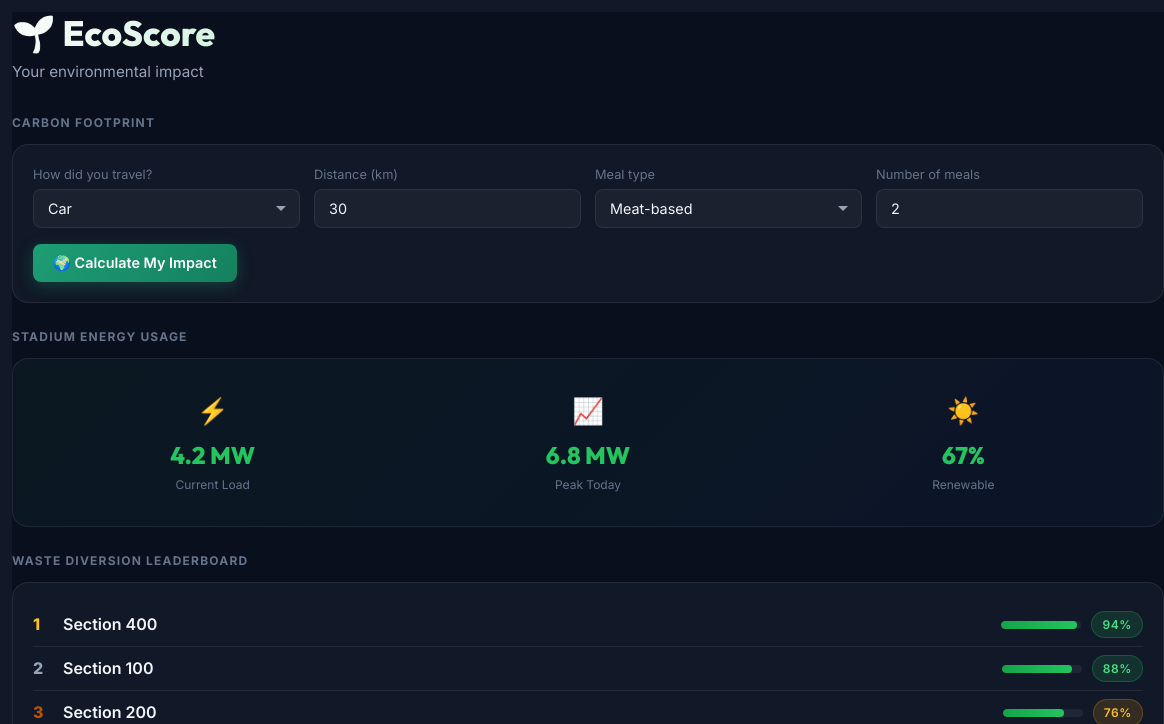
EcoScore › shows carbon result after calculation
This screenshot has width=1164, height=724.
Click the button "🌍 Calculate My Impact" at (135, 263), box [33,244,237,282]
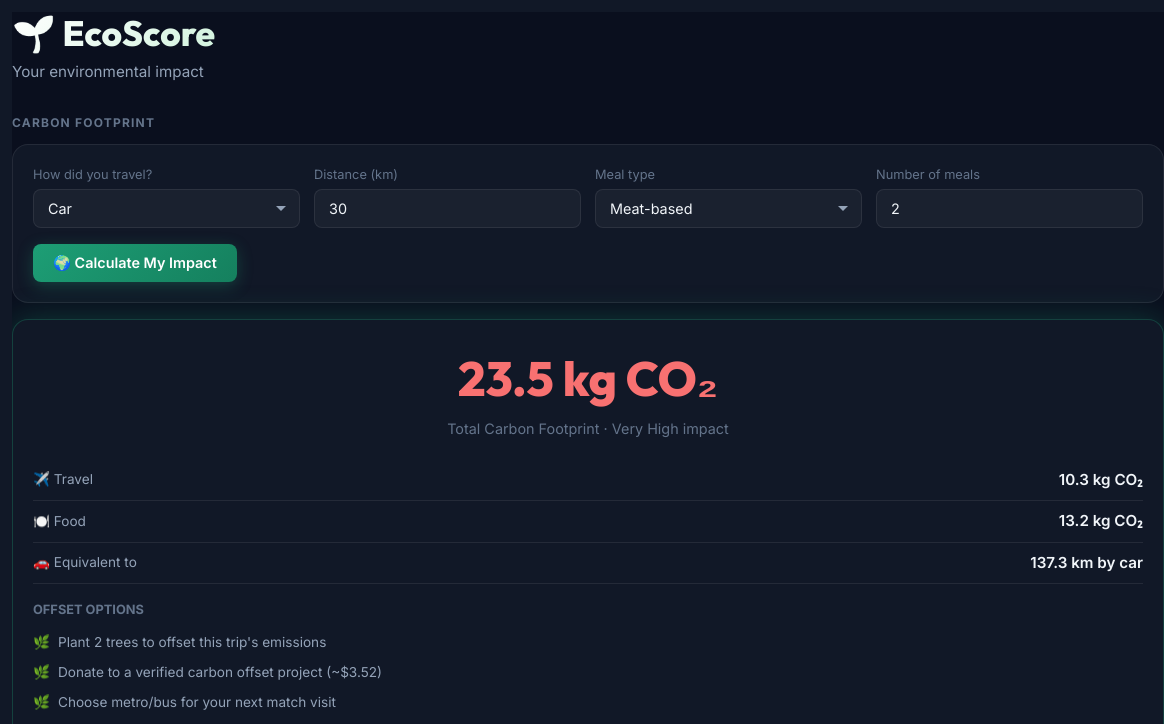
Expected: the text "23.5 kg CO₂" is shown, [458,348,718,408]
